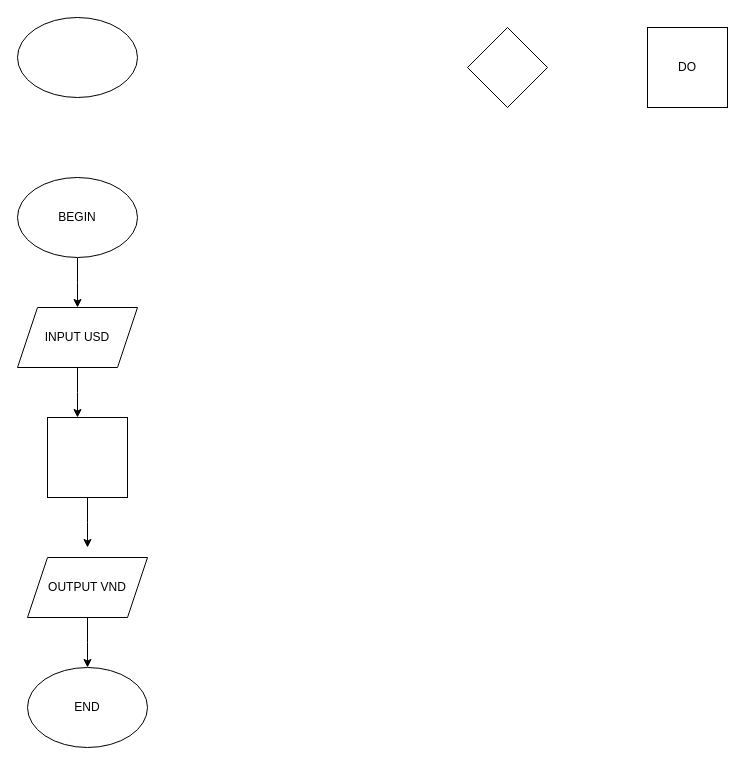
Some shapes in this 745 by 765 pixel diagram are drawn without their labels. The centre of each missing label's shape, as x and y in pixels:
"BEGIN, END" belongs at pixel 77 57.
"IF,ELSE" belongs at pixel 507 67.
"VND= USD * 23000" belongs at pixel 87 457.
